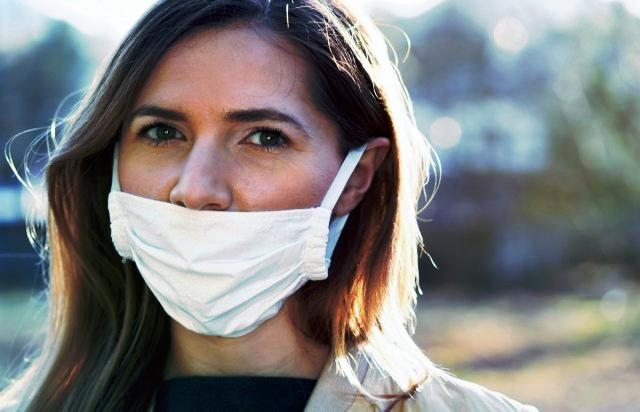mask_weared_incorrect: (106, 1, 418, 341)
